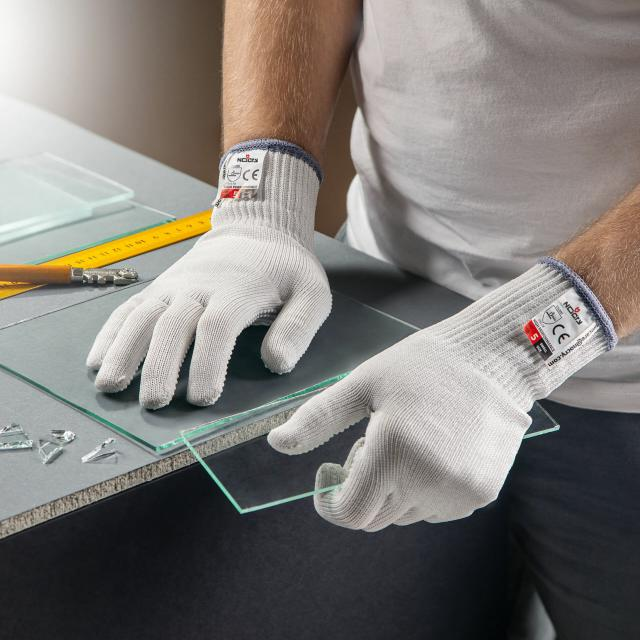gloves: (269, 259, 620, 534), (84, 140, 333, 409)
